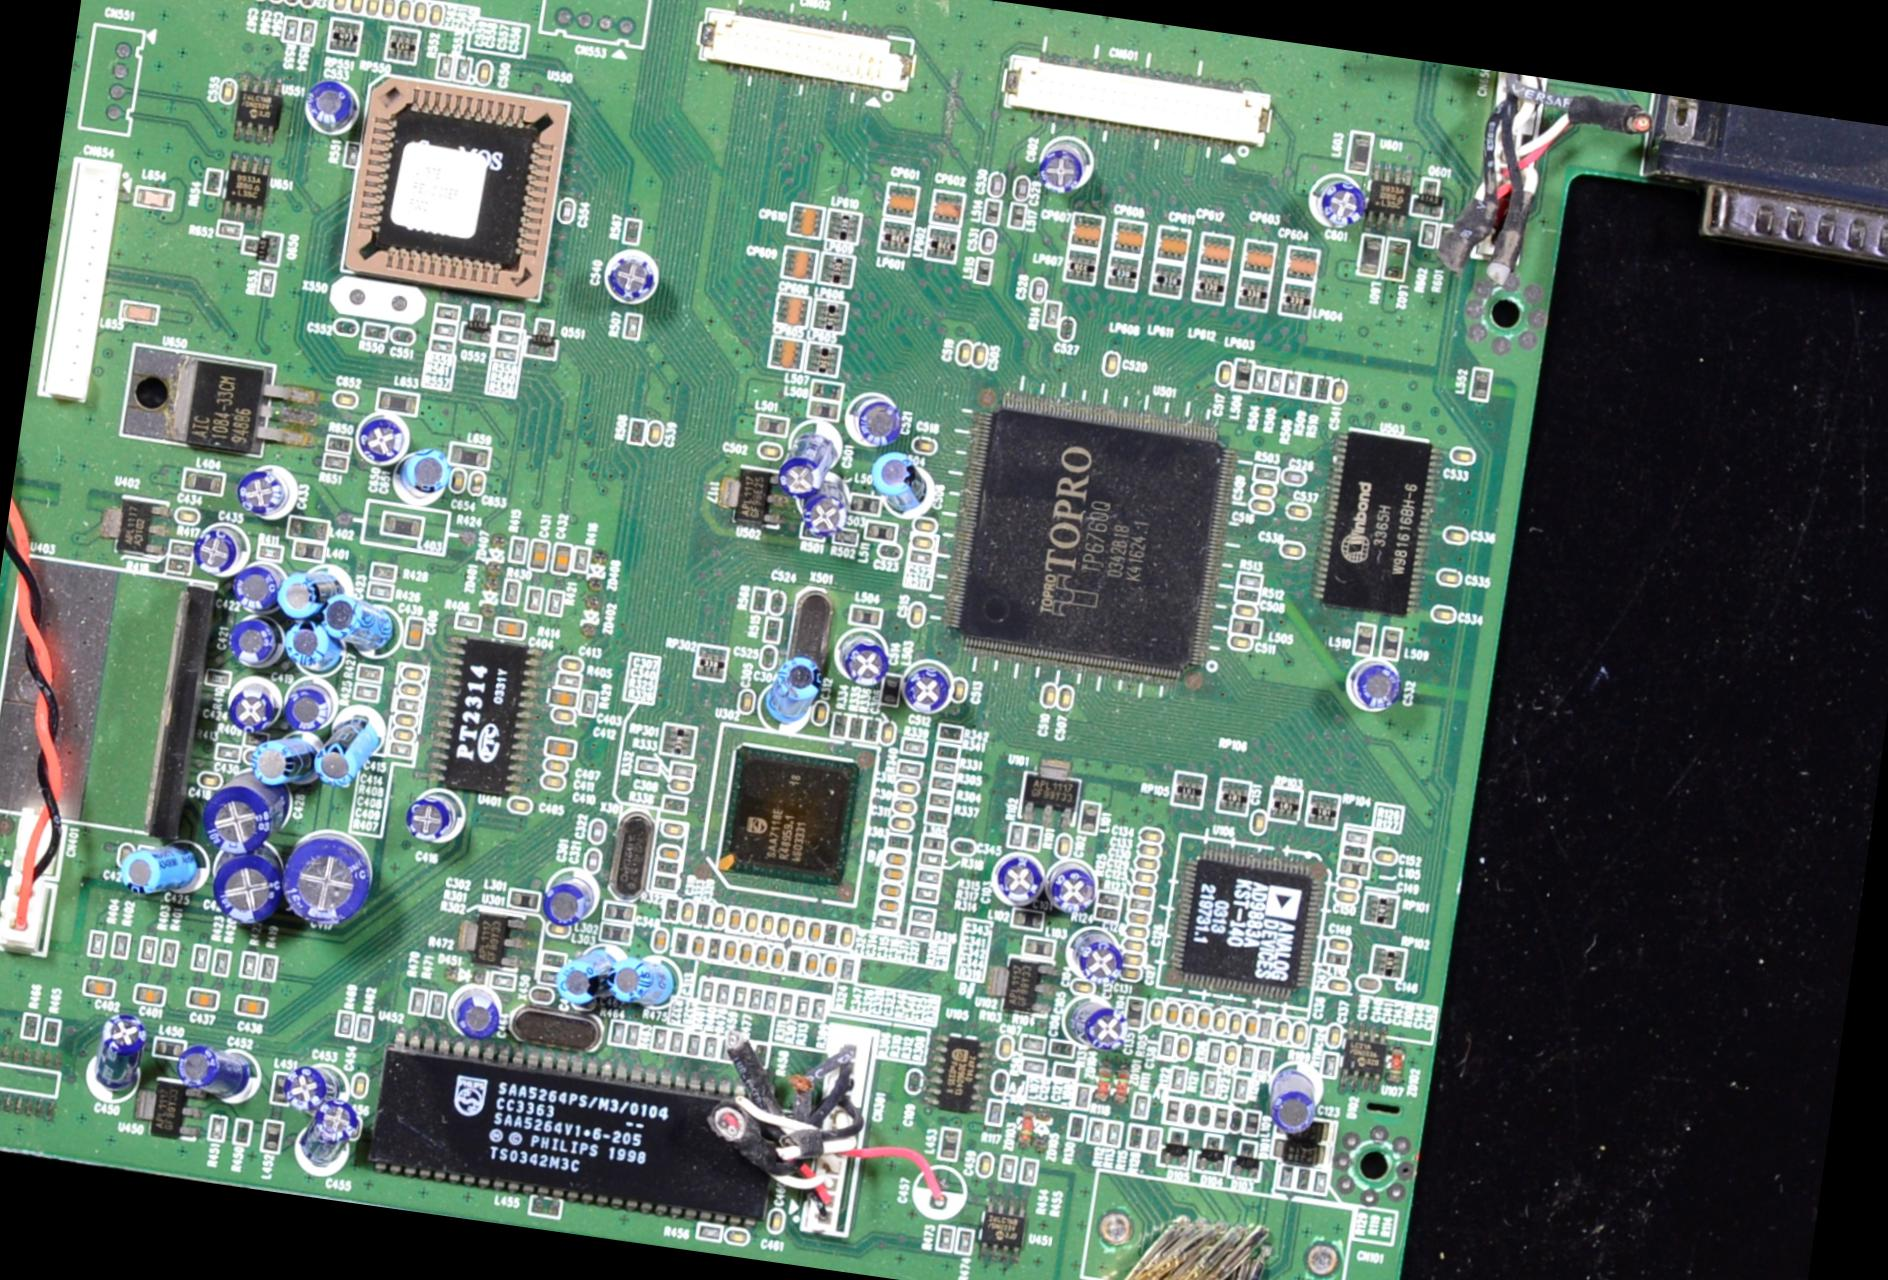Capacitor Jumper: (988, 46, 1285, 151), (277, 820, 383, 936), (194, 851, 304, 937), (73, 1003, 154, 1114), (268, 556, 377, 630), (186, 781, 291, 854), (101, 836, 209, 907), (313, 713, 396, 797), (293, 1099, 374, 1181), (1300, 166, 1375, 243), (248, 730, 331, 800), (444, 980, 517, 1059), (588, 247, 680, 309), (340, 409, 417, 479), (1024, 134, 1105, 199), (1334, 659, 1420, 719), (893, 649, 964, 720), (758, 656, 834, 723), (527, 871, 604, 937), (825, 630, 900, 697), (394, 783, 464, 853), (318, 587, 391, 654), (229, 467, 310, 527), (183, 526, 260, 587), (390, 434, 457, 504), (276, 614, 346, 674), (219, 674, 284, 734), (277, 680, 347, 734), (284, 1057, 348, 1116), (220, 684, 283, 743), (230, 553, 291, 611), (223, 620, 286, 671), (229, 990, 280, 1030), (534, 733, 594, 766), (180, 983, 229, 1020), (127, 973, 173, 1011), (324, 377, 368, 416), (80, 970, 127, 1004), (1093, 350, 1133, 389), (1435, 521, 1480, 554), (1440, 439, 1480, 474), (1278, 459, 1318, 493), (764, 1200, 794, 1243), (400, 609, 430, 651), (967, 1147, 1000, 1186), (500, 787, 538, 820), (547, 537, 576, 581), (323, 316, 364, 346), (721, 1217, 757, 1251), (381, 321, 417, 354), (170, 497, 207, 529), (1285, 1021, 1320, 1054), (524, 537, 551, 579), (556, 196, 586, 233), (983, 163, 1010, 203), (1054, 307, 1081, 347), (1368, 841, 1405, 870), (1435, 563, 1474, 590), (211, 76, 240, 111), (1427, 601, 1462, 630), (973, 226, 1004, 257), (900, 597, 930, 630), (947, 334, 975, 369), (1351, 974, 1391, 999), (578, 846, 610, 876), (1208, 360, 1238, 391), (871, 540, 904, 569), (394, 661, 433, 686), (1065, 973, 1101, 999), (870, 894, 907, 919), (1281, 499, 1318, 523), (384, 721, 421, 746), (537, 773, 574, 797), (1051, 829, 1080, 860), (1025, 271, 1053, 304), (1207, 1004, 1232, 1039), (546, 687, 581, 711), (1275, 534, 1305, 563), (903, 1063, 927, 1097), (556, 653, 590, 677), (991, 1034, 1020, 1063), (1224, 633, 1260, 656), (1034, 681, 1061, 711), (965, 340, 991, 371), (654, 841, 687, 866), (348, 1069, 373, 1101), (905, 437, 943, 459), (1230, 600, 1264, 623), (1327, 886, 1361, 909), (731, 687, 760, 714), (687, 930, 713, 960), (1272, 1017, 1298, 1047), (1244, 499, 1280, 520), (885, 797, 921, 819), (1010, 173, 1034, 204), (808, 696, 833, 727), (584, 817, 610, 846), (990, 1067, 1015, 1096), (447, 467, 473, 496), (1322, 930, 1352, 954), (466, 467, 490, 497), (950, 677, 974, 707), (647, 417, 670, 449), (753, 437, 784, 460), (880, 847, 911, 870), (1248, 480, 1281, 501), (910, 513, 943, 534), (1134, 821, 1167, 843), (737, 940, 763, 967), (743, 909, 765, 939), (775, 913, 798, 943), (801, 950, 824, 980), (548, 706, 578, 729), (660, 819, 690, 841), (748, 943, 773, 970), (647, 930, 671, 957), (1057, 684, 1081, 711), (1328, 376, 1348, 409), (877, 716, 897, 749), (1197, 1004, 1220, 1033), (477, 59, 500, 87), (1332, 870, 1362, 891), (878, 863, 910, 883), (755, 911, 778, 939), (1163, 1000, 1185, 1027), (194, 770, 223, 791), (710, 904, 731, 933), (1322, 1023, 1344, 1051), (390, 711, 426, 729), (538, 757, 571, 776), (396, 0, 418, 26), (904, 531, 938, 549), (788, 916, 810, 943), (768, 944, 790, 971), (1180, 1004, 1201, 1031), (1241, 1013, 1262, 1040), (363, 0, 390, 21), (767, 590, 787, 619), (885, 814, 914, 834), (1133, 840, 1165, 857), (878, 883, 908, 901), (326, 0, 356, 19), (718, 940, 743, 963), (426, 1, 447, 27), (1145, 999, 1165, 1026), (1225, 1107, 1245, 1134), (394, 681, 428, 697), (1131, 869, 1160, 887), (1131, 880, 1160, 899), (378, 0, 401, 23), (1120, 936, 1150, 953), (838, 923, 858, 949), (727, 907, 747, 933), (1228, 1011, 1247, 1039), (1221, 1041, 1240, 1069), (1124, 923, 1153, 940), (411, 0, 428, 29), (1133, 854, 1161, 871), (821, 956, 841, 980), (346, 0, 371, 19), (893, 779, 918, 797), (1124, 909, 1151, 926), (1117, 964, 1144, 981), (807, 920, 827, 943), (1181, 1101, 1200, 1126), (1195, 1104, 1214, 1129), (1120, 950, 1145, 967), (1325, 977, 1350, 994), (1174, 1036, 1191, 1060), (667, 779, 694, 793), (246, 0, 277, 9), (298, 0, 320, 11), (283, 0, 301, 9), (266, 0, 284, 7)
Connector: (26, 151, 134, 413), (683, 0, 931, 113), (61, 20, 166, 147), (527, 0, 676, 66)
IC: (934, 389, 1248, 696), (334, 69, 573, 301), (700, 724, 867, 900), (1307, 426, 1447, 629), (117, 339, 281, 463), (426, 631, 543, 800), (137, 1059, 211, 1149), (714, 463, 795, 543), (97, 493, 180, 570), (927, 1030, 987, 1114), (1360, 160, 1422, 234), (456, 906, 526, 969), (0, 1054, 70, 1114), (994, 953, 1057, 1017), (229, 81, 286, 141), (219, 166, 277, 221), (1335, 1031, 1385, 1087)
Resistor Jumper: (328, 134, 371, 176), (684, 1217, 730, 1250), (617, 307, 656, 346), (1408, 217, 1441, 257), (200, 660, 238, 693), (246, 266, 278, 303), (204, 216, 248, 243), (571, 539, 600, 580), (930, 1220, 961, 1257), (320, 431, 363, 457), (81, 926, 113, 960), (506, 534, 536, 570), (313, 451, 354, 477), (401, 980, 430, 1017), (646, 867, 684, 894), (106, 927, 131, 967), (207, 944, 237, 979), (331, 1006, 360, 1041), (951, 1227, 980, 1263), (256, 949, 283, 986), (484, 970, 526, 994), (14, 1011, 43, 1046), (620, 213, 648, 247), (1015, 1154, 1043, 1190), (229, 1113, 256, 1149), (524, 584, 551, 620), (1340, 823, 1375, 850), (1100, 1117, 1125, 1154), (993, 1151, 1021, 1184), (828, 523, 861, 551), (134, 933, 161, 967), (983, 1097, 1008, 1133), (621, 414, 647, 450), (935, 719, 973, 743), (1192, 1070, 1222, 1100), (497, 576, 526, 607), (1001, 819, 1030, 850), (39, 1014, 66, 1047), (744, 583, 770, 617), (353, 1010, 377, 1046), (1143, 1123, 1167, 1159), (667, 757, 703, 781), (358, 319, 387, 349), (553, 670, 593, 691), (186, 943, 213, 974), (650, 857, 687, 880), (494, 307, 531, 330), (630, 751, 667, 774), (210, 740, 247, 763), (237, 950, 263, 983), (426, 987, 451, 1020), (1064, 1113, 1090, 1146), (206, 1114, 231, 1147), (454, 609, 488, 633), (384, 739, 418, 763), (250, 541, 288, 563), (200, 163, 223, 199), (368, 559, 404, 581), (544, 586, 567, 621), (1130, 1091, 1155, 1123), (791, 993, 815, 1026), (490, 341, 523, 366), (913, 864, 947, 887), (1311, 371, 1334, 406), (897, 731, 931, 754), (428, 301, 464, 323), (390, 694, 426, 716), (925, 774, 961, 796), (1255, 1011, 1280, 1043), (1291, 1166, 1315, 1197), (163, 554, 194, 579), (658, 789, 690, 813), (911, 883, 944, 906), (1280, 369, 1302, 401), (428, 317, 461, 340), (1017, 1031, 1051, 1053), (1084, 1114, 1105, 1149), (296, 17, 317, 51), (761, 616, 787, 644), (353, 681, 383, 706), (577, 689, 600, 720), (163, 537, 196, 559), (366, 583, 398, 604), (933, 741, 965, 763), (1228, 1074, 1252, 1103), (1155, 1030, 1178, 1060), (159, 939, 181, 969), (280, 16, 301, 47), (897, 757, 928, 779), (660, 896, 684, 923), (1167, 1066, 1191, 1093), (1272, 1166, 1297, 1193), (426, 334, 458, 354), (1320, 1050, 1342, 1079), (1124, 1120, 1145, 1150), (844, 711, 865, 741), (1312, 1166, 1331, 1200), (930, 757, 964, 776), (1018, 1060, 1050, 1080), (923, 809, 954, 829), (761, 989, 785, 1014), (1248, 367, 1270, 396), (1095, 890, 1125, 910), (1202, 1039, 1222, 1069), (925, 790, 955, 810), (650, 1027, 673, 1053), (1232, 584, 1267, 601), (821, 921, 843, 949), (860, 713, 880, 741), (827, 710, 847, 739), (1234, 569, 1267, 586), (904, 549, 937, 566), (354, 664, 387, 681), (908, 907, 938, 926), (918, 850, 948, 869), (811, 997, 833, 1023), (694, 903, 714, 930), (784, 950, 804, 977), (700, 1033, 720, 1060), (1295, 373, 1315, 400), (1024, 827, 1044, 854), (623, 1021, 640, 1053), (1093, 906, 1121, 924), (1265, 366, 1284, 394), (748, 984, 768, 1010), (714, 980, 734, 1006), (1340, 841, 1370, 859), (905, 921, 933, 940), (456, 54, 474, 81), (778, 990, 797, 1016), (873, 913, 900, 930), (698, 979, 720, 1000), (666, 1031, 684, 1056), (733, 983, 748, 1011), (494, 330, 523, 346), (1255, 1049, 1274, 1071), (608, 1021, 626, 1046), (683, 1033, 700, 1057), (434, 54, 451, 79), (1240, 1044, 1255, 1070), (1125, 896, 1155, 909)
Transistor: (517, 310, 568, 376), (230, 226, 287, 271), (1411, 173, 1452, 221), (458, 300, 494, 354)
